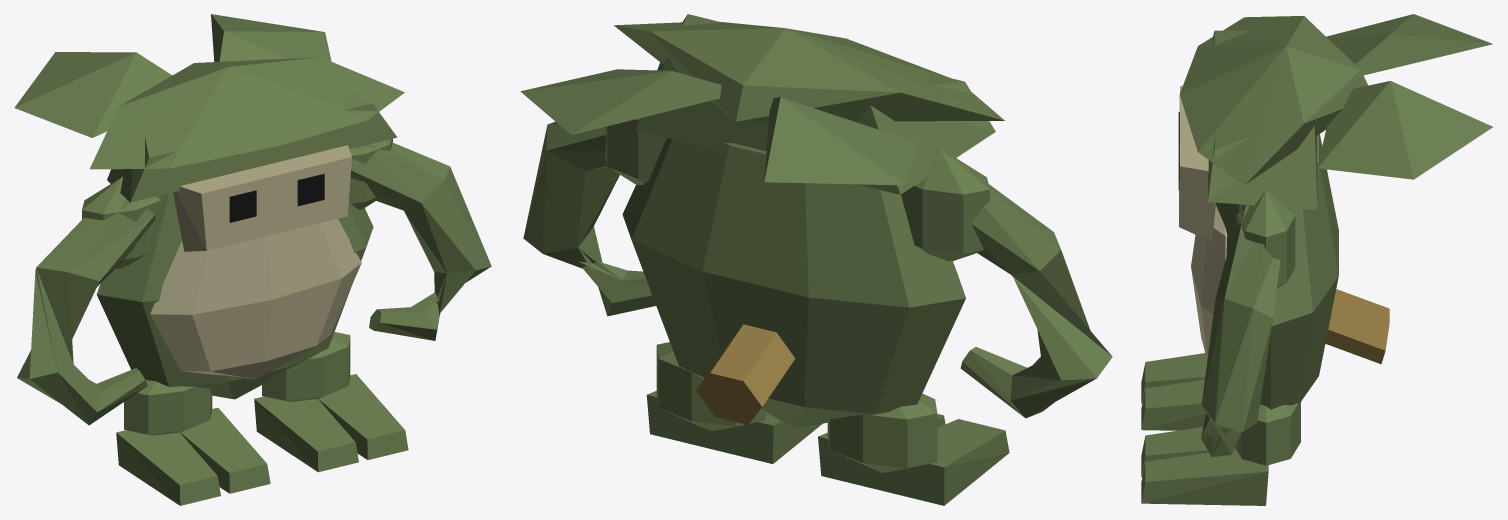
File: fernclasp.glb
3 renders of one model, left to right at view 1: azimuth 30°, elevation 25°; view 2: azimuth 150°, elevation 25°; view 3: azimuth 270°, elevation 25°, orthographic. The views are drawn at different scales.
Parts seen in each view (by area): view 1: Fernclasp; view 2: Fernclasp; view 3: Fernclasp.
Boxes of the visible parts, bbox=[...] form: Fernclasp: bbox=[14, 14, 491, 505]; Fernclasp: bbox=[520, 14, 1112, 505]; Fernclasp: bbox=[1141, 14, 1492, 505].
Bounding box in the file's own units: 0.96 × 0.72 × 0.58.
